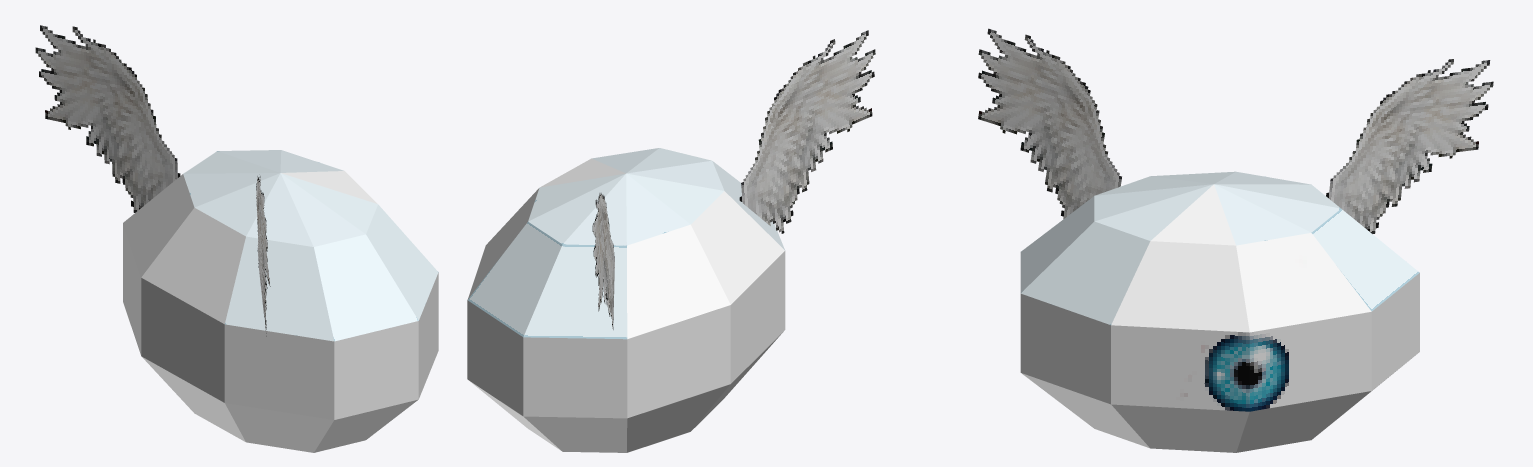
Rendered from boss1.gltf.
3 views of the same model, side by side, from view 1: azimuth 30°, elevation 25°; view 2: azimuth 150°, elevation 25°; view 3: azimuth 270°, elevation 25° (orthographic).
Parts seen in each view (by area): view 1: sphere, plane (×2); view 2: sphere, plane (×2); view 3: sphere, plane (×2).
Part boxes in pixels (left/top/right/bottom): sphere: left=123, top=150, right=438, bottom=452; plane (×2): left=35, top=25, right=270, bottom=336; sphere: left=467, top=148, right=785, bottom=452; plane (×2): left=592, top=30, right=875, bottom=329; sphere: left=1020, top=171, right=1419, bottom=452; plane (×2): left=978, top=28, right=1493, bottom=233.
Size of the model in its own units: 1.14 by 1.48 by 2.19.
Materials: 3 (3 with a texture image).
